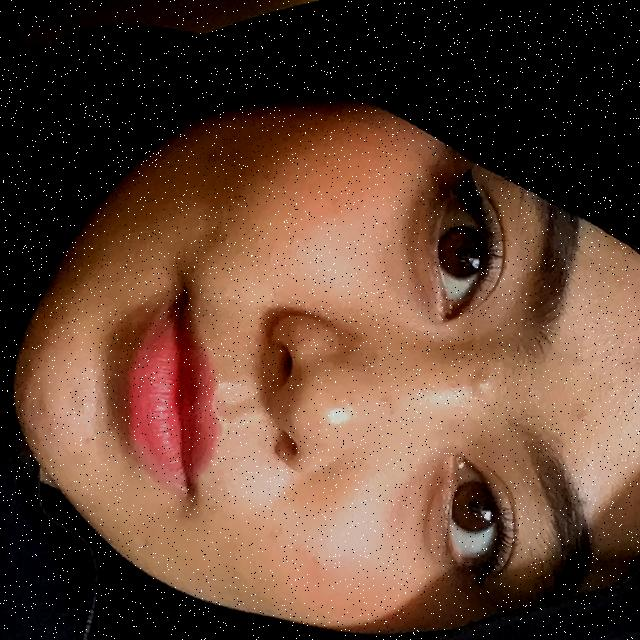kapan: (0, 0, 474, 350)
